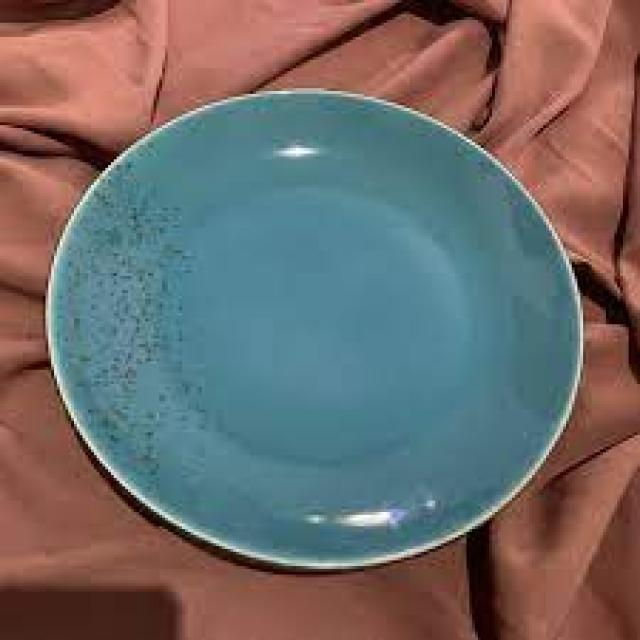Plate: (34, 73, 606, 587)
